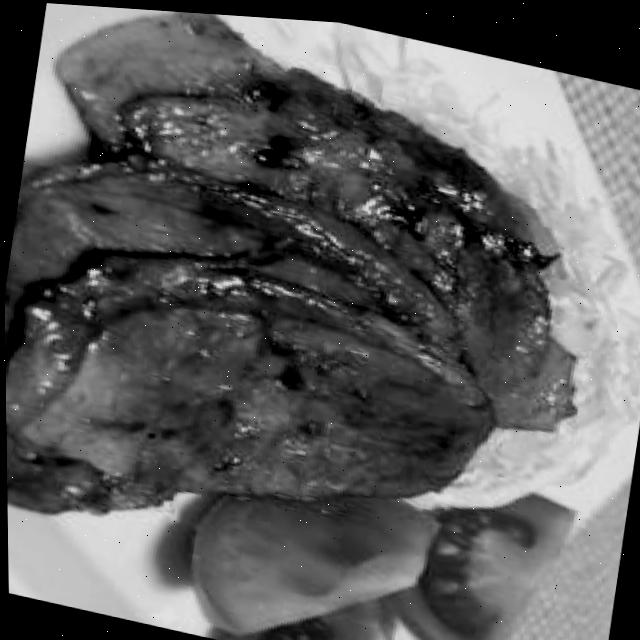猪肉菜式: (0, 0, 639, 626)
